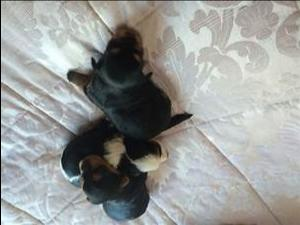dog: (66, 27, 193, 141), (60, 118, 168, 222)
